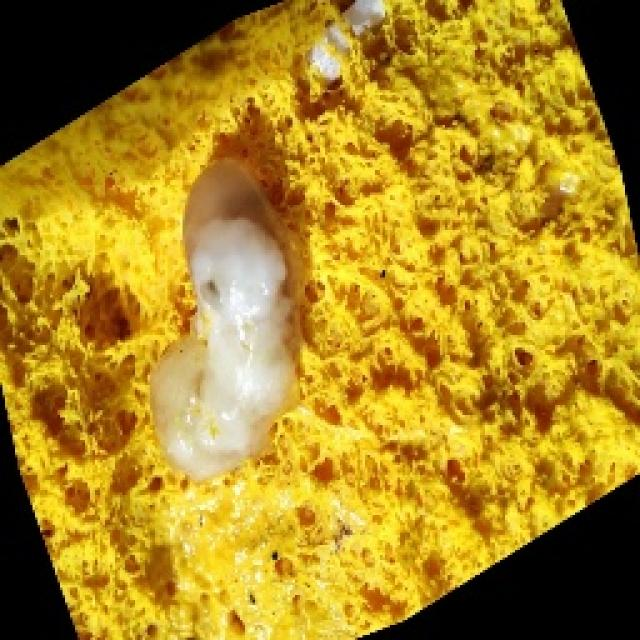Dog_vomit_slime_mold: (5, 17, 631, 640)
